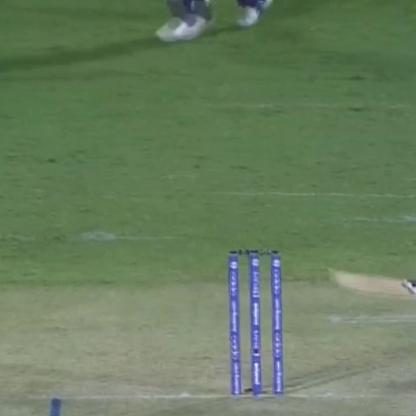bat: (322, 258, 416, 304)
